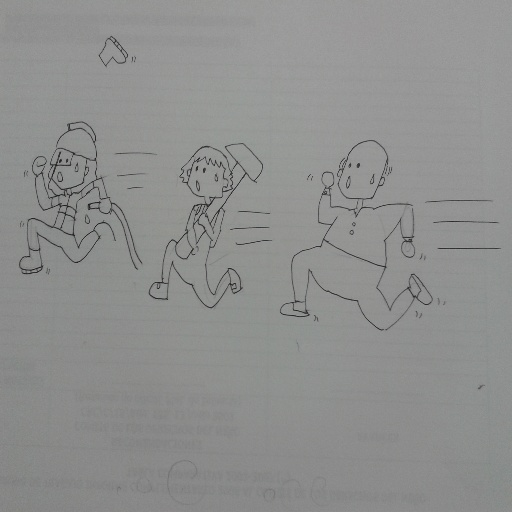hand: (32, 156, 47, 178), (398, 239, 416, 256), (319, 170, 334, 187), (97, 196, 111, 214), (198, 213, 209, 225), (189, 244, 199, 255)
